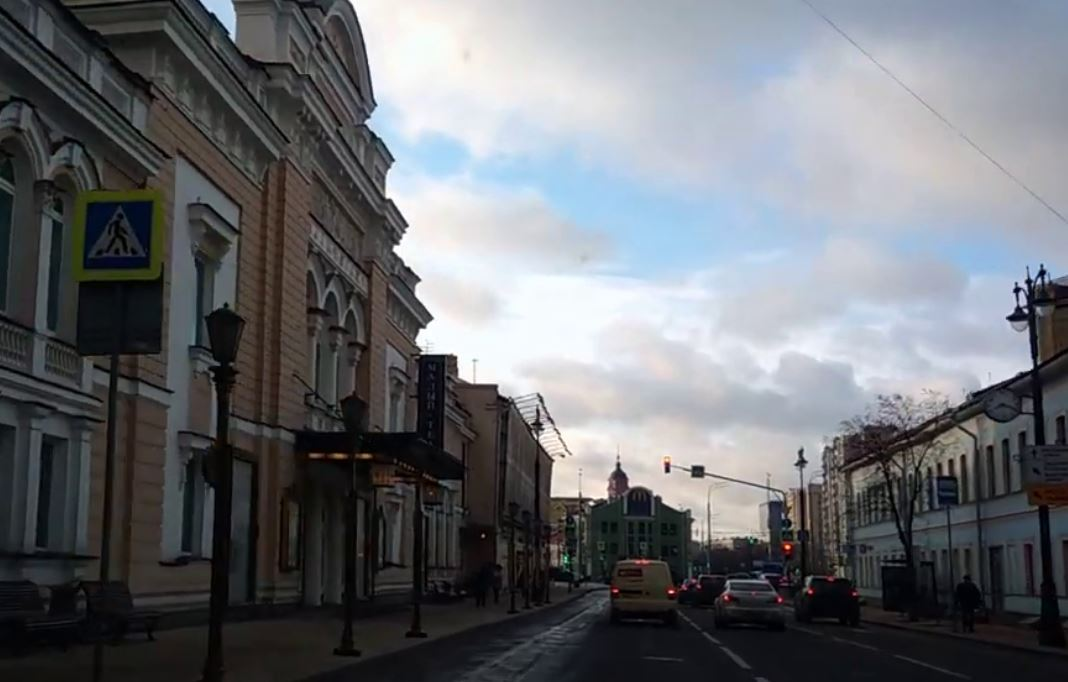Yaya Gecidi: (85, 200, 153, 266)
